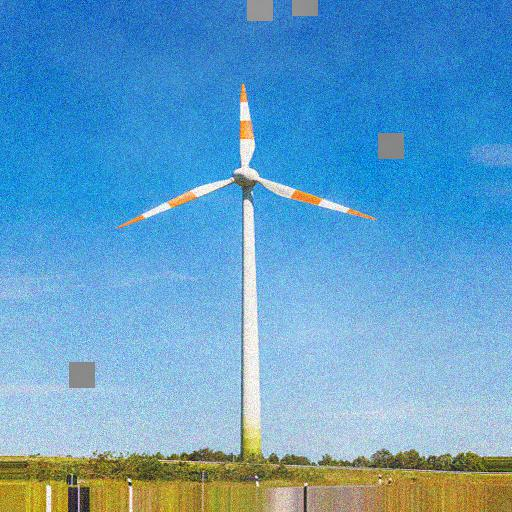wind turbine: (115, 83, 382, 458)
